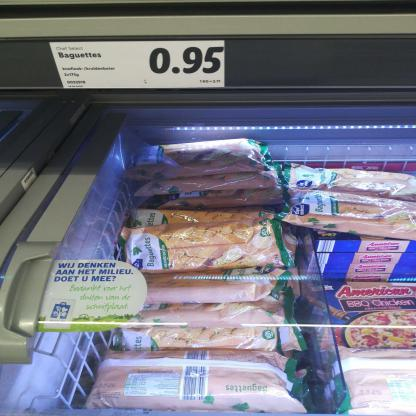prtg: (51, 41, 226, 89)
